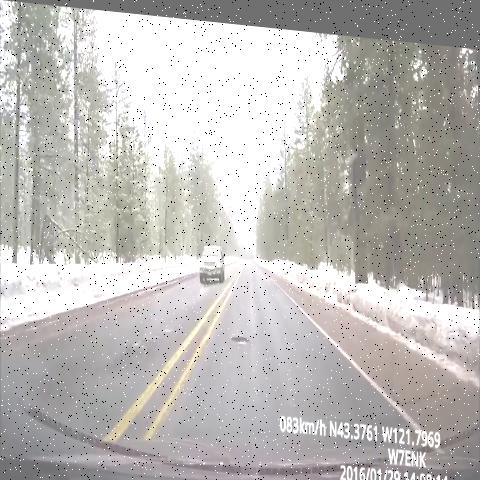pothole: (119, 314, 171, 380), (228, 319, 256, 351), (240, 276, 253, 286)
